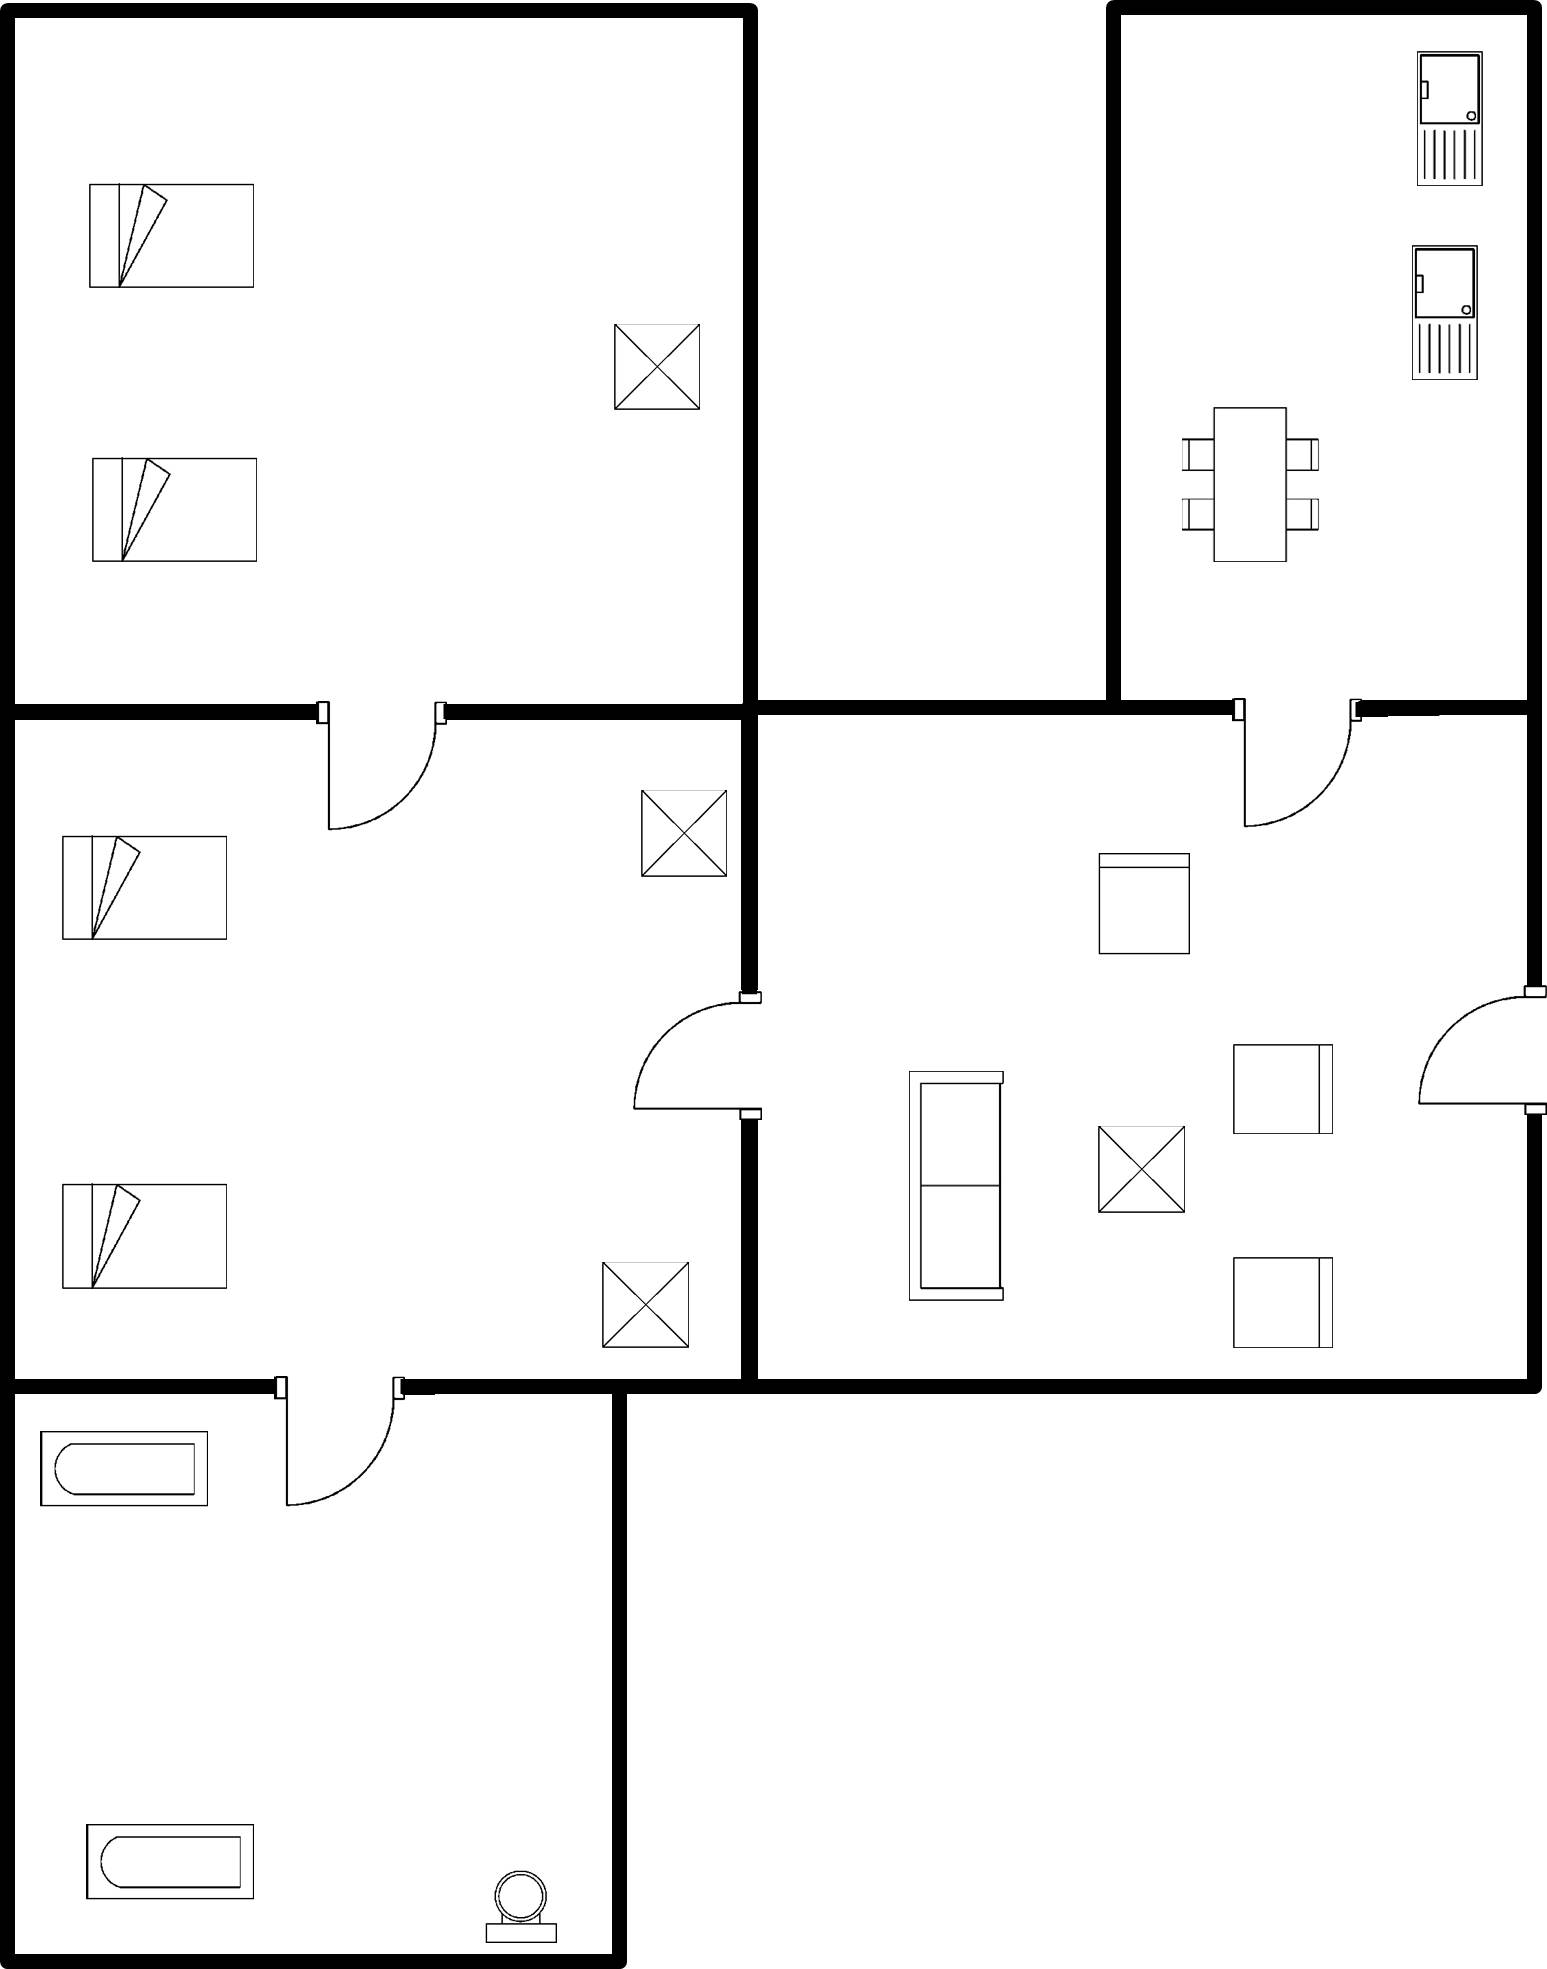bed: (79, 446, 285, 579), (45, 1171, 247, 1305), (72, 167, 270, 302), (51, 827, 241, 952)
coffee_table: (1079, 1111, 1197, 1221), (581, 1252, 701, 1359), (631, 780, 741, 884), (604, 315, 710, 421)
dining_table: (1164, 390, 1326, 582)
large_sink: (472, 1855, 570, 1950)
large_sofa: (897, 1055, 1018, 1315)
sink: (1395, 232, 1489, 390), (1406, 40, 1497, 198)
small_sofa: (1081, 842, 1212, 967), (1212, 1242, 1349, 1357), (1218, 1032, 1345, 1146)
tub: (27, 1417, 224, 1521), (72, 1809, 266, 1913)
